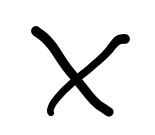mult: (32, 26, 130, 117)
